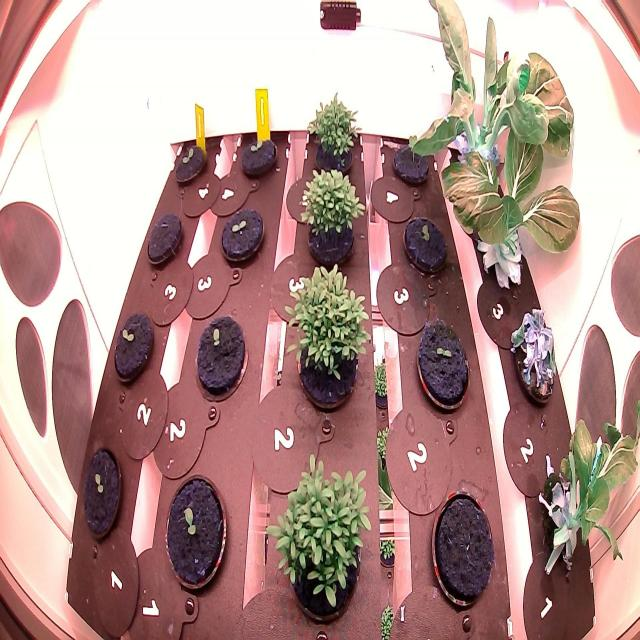germination: (160, 468, 233, 598), (411, 304, 478, 422), (73, 439, 134, 545), (190, 308, 252, 402), (106, 304, 166, 386), (215, 197, 270, 280), (399, 202, 453, 284), (388, 127, 434, 195), (238, 118, 282, 186), (167, 136, 208, 195)
pod: (425, 484, 505, 623), (141, 206, 193, 272)
